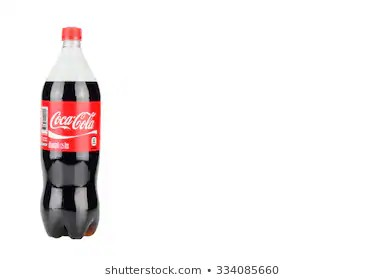coke-bottle-700ml: (34, 20, 108, 240)
